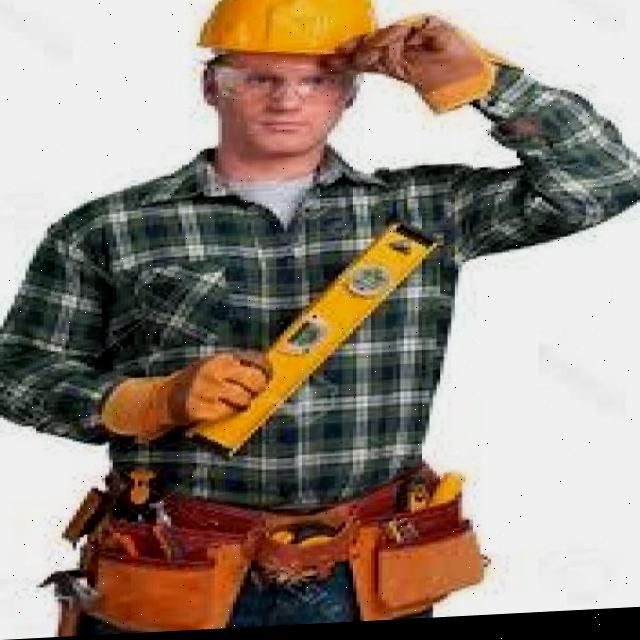Gloves: (101, 350, 272, 445)
Helmet: (197, 0, 380, 64)
